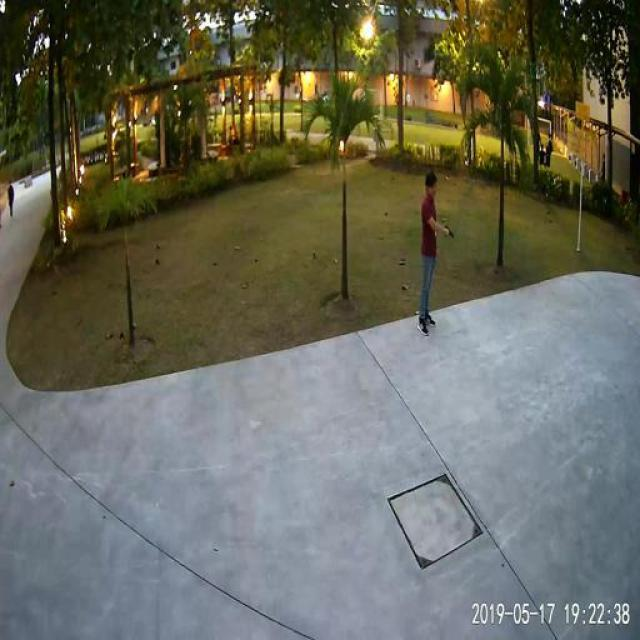Gun: (437, 216, 461, 246)
